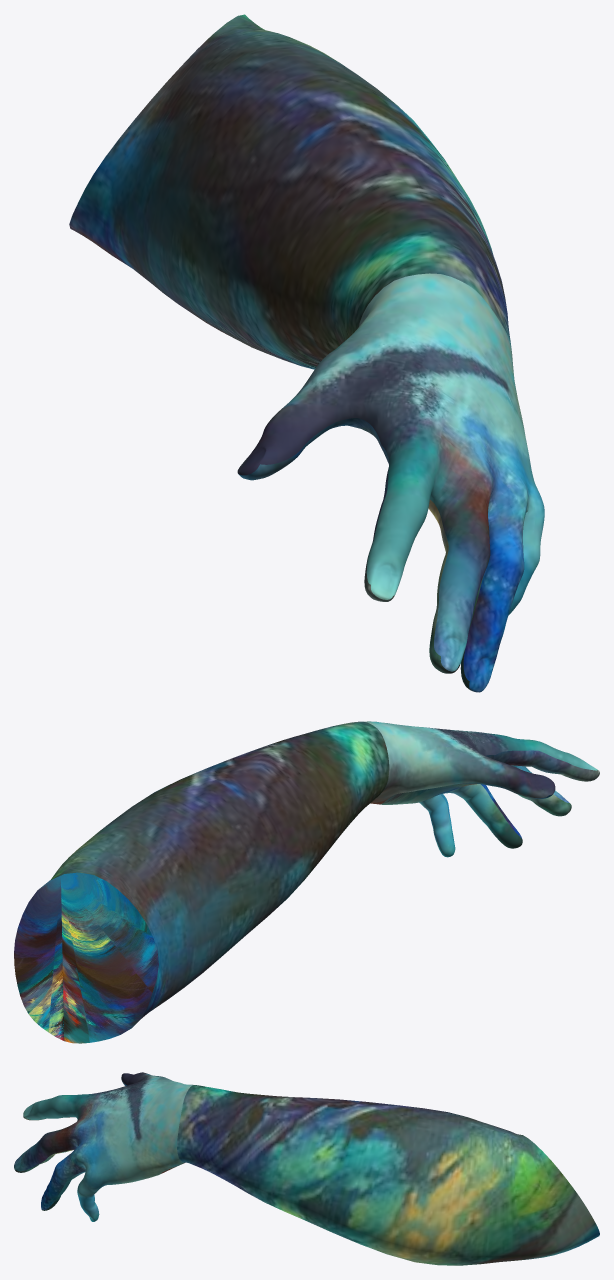
File: TestPGA12 Beauty (copy).glb
3 views of the same model, one above another, from view 1: azimuth 30°, elevation 25°; view 2: azimuth 150°, elevation 25°; view 3: azimuth 270°, elevation 25° (orthographic). The views are drawn at different scales.
Visible parts, largest first — view 1: base.obj.sub 1; view 2: base.obj.sub 1; view 3: base.obj.sub 1.
Part boxes in pixels (x1,y1,x2,y2): base.obj.sub 1: [69, 14, 544, 692]; base.obj.sub 1: [14, 721, 599, 1043]; base.obj.sub 1: [14, 1072, 599, 1265].
Bounding box in the file's own units: 0.0223 × 0.0133 × 0.0471.
Materials: 1 (1 with a texture image).
